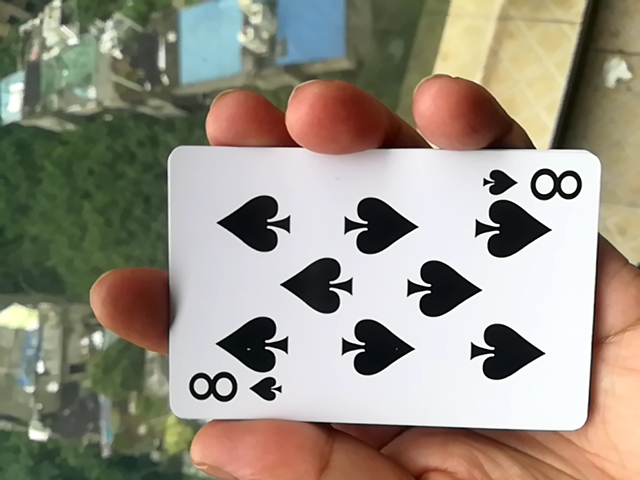ht 8: (148, 135, 580, 445)
